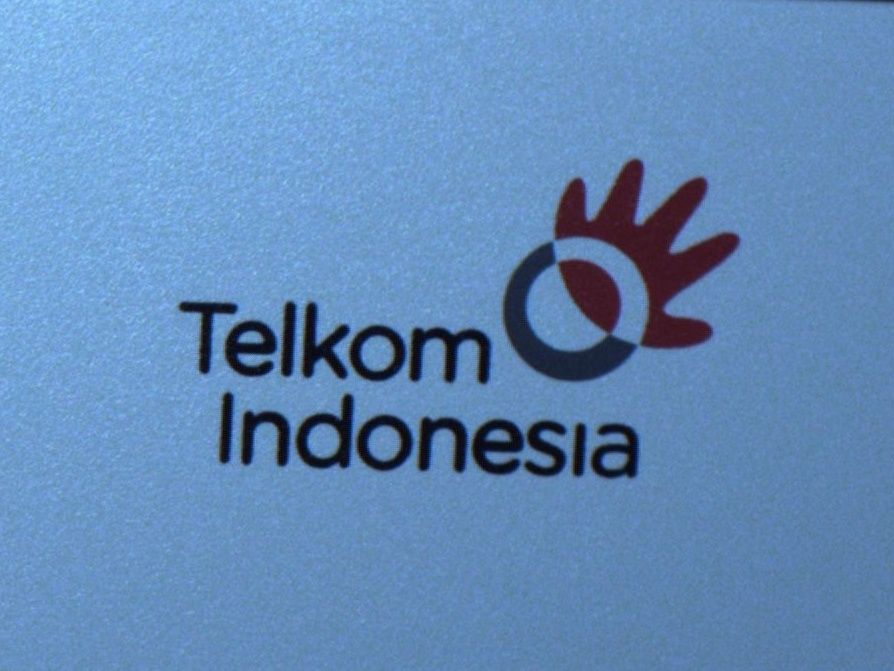BQ_IndonTelkom: (175, 158, 749, 480)
